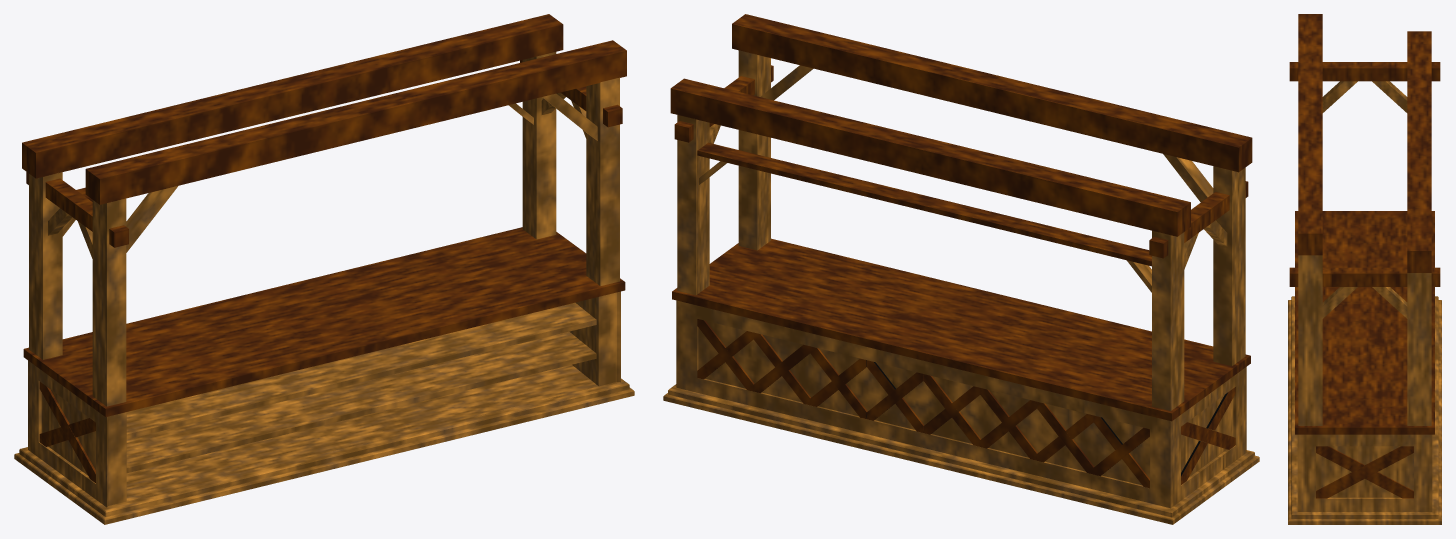
File: counter2.obj
3 renders of one model, left to right at view 1: azimuth 30°, elevation 25°; view 2: azimuth 150°, elevation 25°; view 3: azimuth 270°, elevation 25°, orthographic. The views are drawn at different scales.
Visible parts, largest first — view 1: Cube.001, Cube.019, Cube.004, Cube.008, Cube.020, Cube, Cube.007, Cube.006, Cube.002, Cube.003, Cube.010, Cube.037 (+3 smaller); view 2: Cube.019, Cube.001, Cube.004, Cube.008, Cube.021, Cube.005, Cube.007, Cube.002, Cube.003, Cube.006, Cube.037, Cube.010 (+2 smaller); view 3: Cube.001, Cube.019, Cube.004, Cube.008, Cube.006, Cube.003, Cube.038, Cube.009, Cube.010, Cube.011, Cube.012, Cube.014 (+1 smaller).
Boxes of the visible parts, x1=… form: Cube.001: x1=23, y1=227, x2=625, y2=416; Cube.019: x1=14, y1=291, x2=634, y2=524; Cube.004: x1=22, y1=14, x2=563, y2=178; Cube.008: x1=85, y1=40, x2=626, y2=204; Cube.020: x1=126, y1=331, x2=596, y2=473; Cube: x1=126, y1=302, x2=596, y2=439; Cube.007: x1=92, y1=198, x2=126, y2=406; Cube.006: x1=586, y1=77, x2=619, y2=285; Cube.002: x1=29, y1=172, x2=62, y2=359; Cube.003: x1=522, y1=52, x2=556, y2=239; Cube.010: x1=26, y1=172, x2=128, y2=247; Cube.037: x1=39, y1=382, x2=95, y2=483; Cube.019: x1=663, y1=300, x2=1259, y2=524; Cube.001: x1=672, y1=238, x2=1250, y2=421; Cube.004: x1=670, y1=78, x2=1190, y2=236; Cube.008: x1=732, y1=14, x2=1252, y2=172; Cube.021: x1=697, y1=319, x2=1149, y2=488; Cube.005: x1=697, y1=142, x2=1151, y2=266; Cube.007: x1=1213, y1=166, x2=1245, y2=366; Cube.002: x1=1152, y1=230, x2=1184, y2=411; Cube.003: x1=677, y1=115, x2=709, y2=295; Cube.006: x1=738, y1=50, x2=770, y2=250; Cube.037: x1=1181, y1=387, x2=1235, y2=484; Cube.010: x1=1149, y1=181, x2=1248, y2=258; Cube.001: x1=1295, y1=211, x2=1434, y2=434; Cube.019: x1=1288, y1=296, x2=1441, y2=524; Cube.004: x1=1407, y1=31, x2=1431, y2=272; Cube.008: x1=1298, y1=14, x2=1322, y2=255; Cube.006: x1=1298, y1=255, x2=1322, y2=425; Cube.003: x1=1407, y1=273, x2=1431, y2=425; Cube.038: x1=1316, y1=446, x2=1413, y2=498; Cube.009: x1=1289, y1=267, x2=1440, y2=286; Cube.010: x1=1289, y1=62, x2=1440, y2=81; Cube.011: x1=1372, y1=81, x2=1407, y2=112; Cube.012: x1=1322, y1=81, x2=1357, y2=112; Cube.014: x1=1322, y1=287, x2=1357, y2=318.
Size of the model in its own units: 5.4 by 3.32 by 1.59.
Materials: 2 (2 with a texture image).
